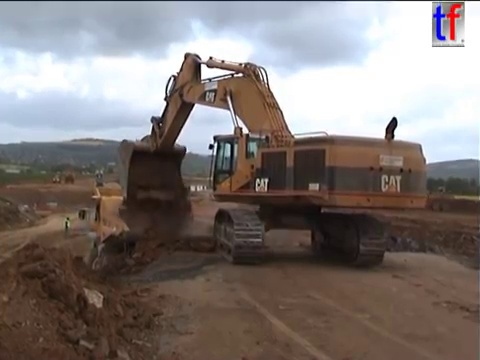excavator: (115, 49, 430, 269)
truck: (77, 181, 235, 284), (133, 188, 239, 248), (404, 191, 456, 212), (63, 172, 75, 185), (50, 172, 61, 184)
worker: (61, 214, 72, 236)
